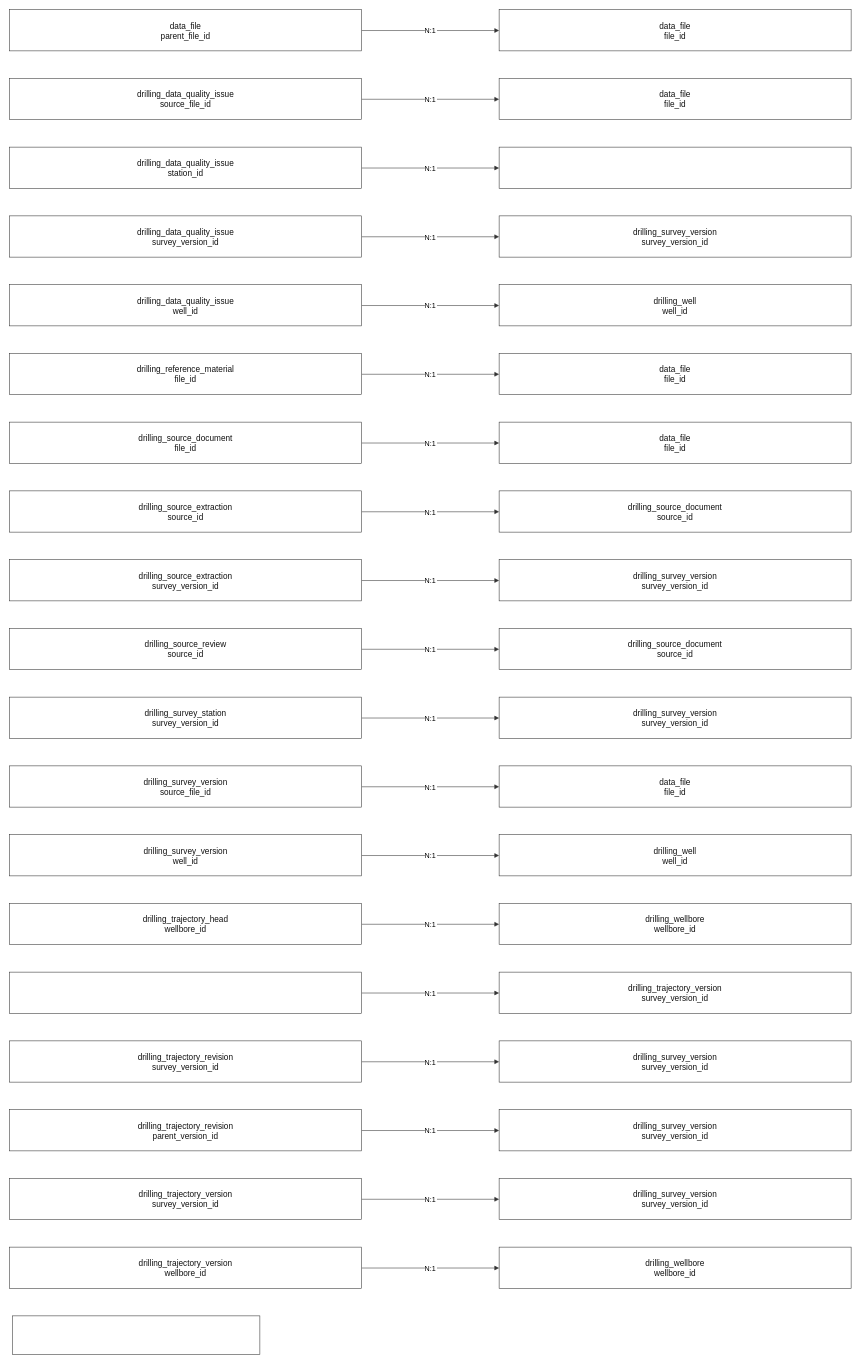
Some shapes in this 861 by 1364 pixel diagram are drawn without their labels. The box of each missing label's shape, as (x1, y1, x2, y2) in pixels:
drilling_import_batch: (12, 1315, 260, 1354)
drilling_survey_station station_id: (499, 147, 851, 188)
drilling_trajectory_head survey_version_id: (9, 972, 362, 1013)
